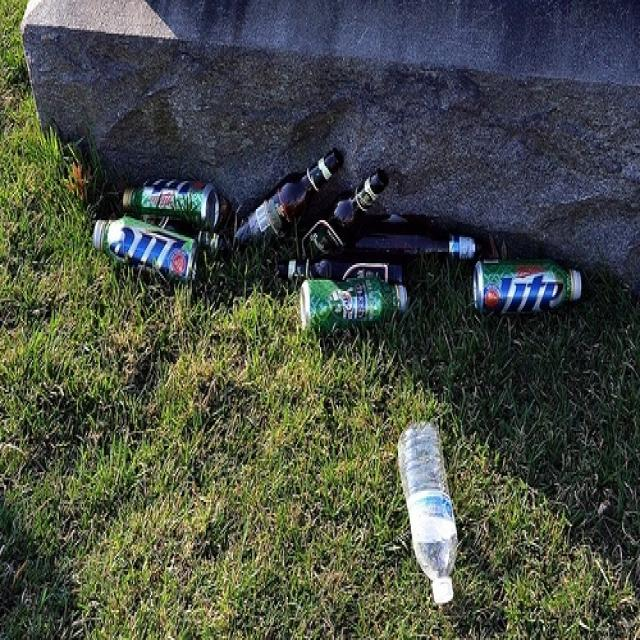Glass: (235, 134, 381, 265)
Plastics: (394, 412, 466, 610)
can: (288, 265, 604, 339), (73, 160, 230, 291)
